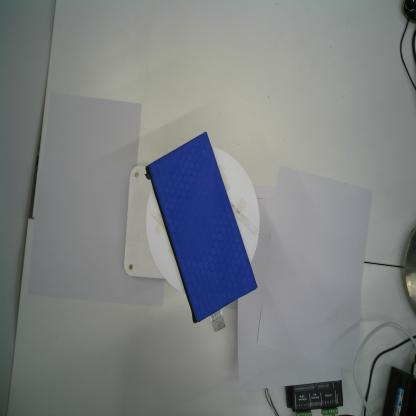Stationery: (144, 128, 260, 334)
